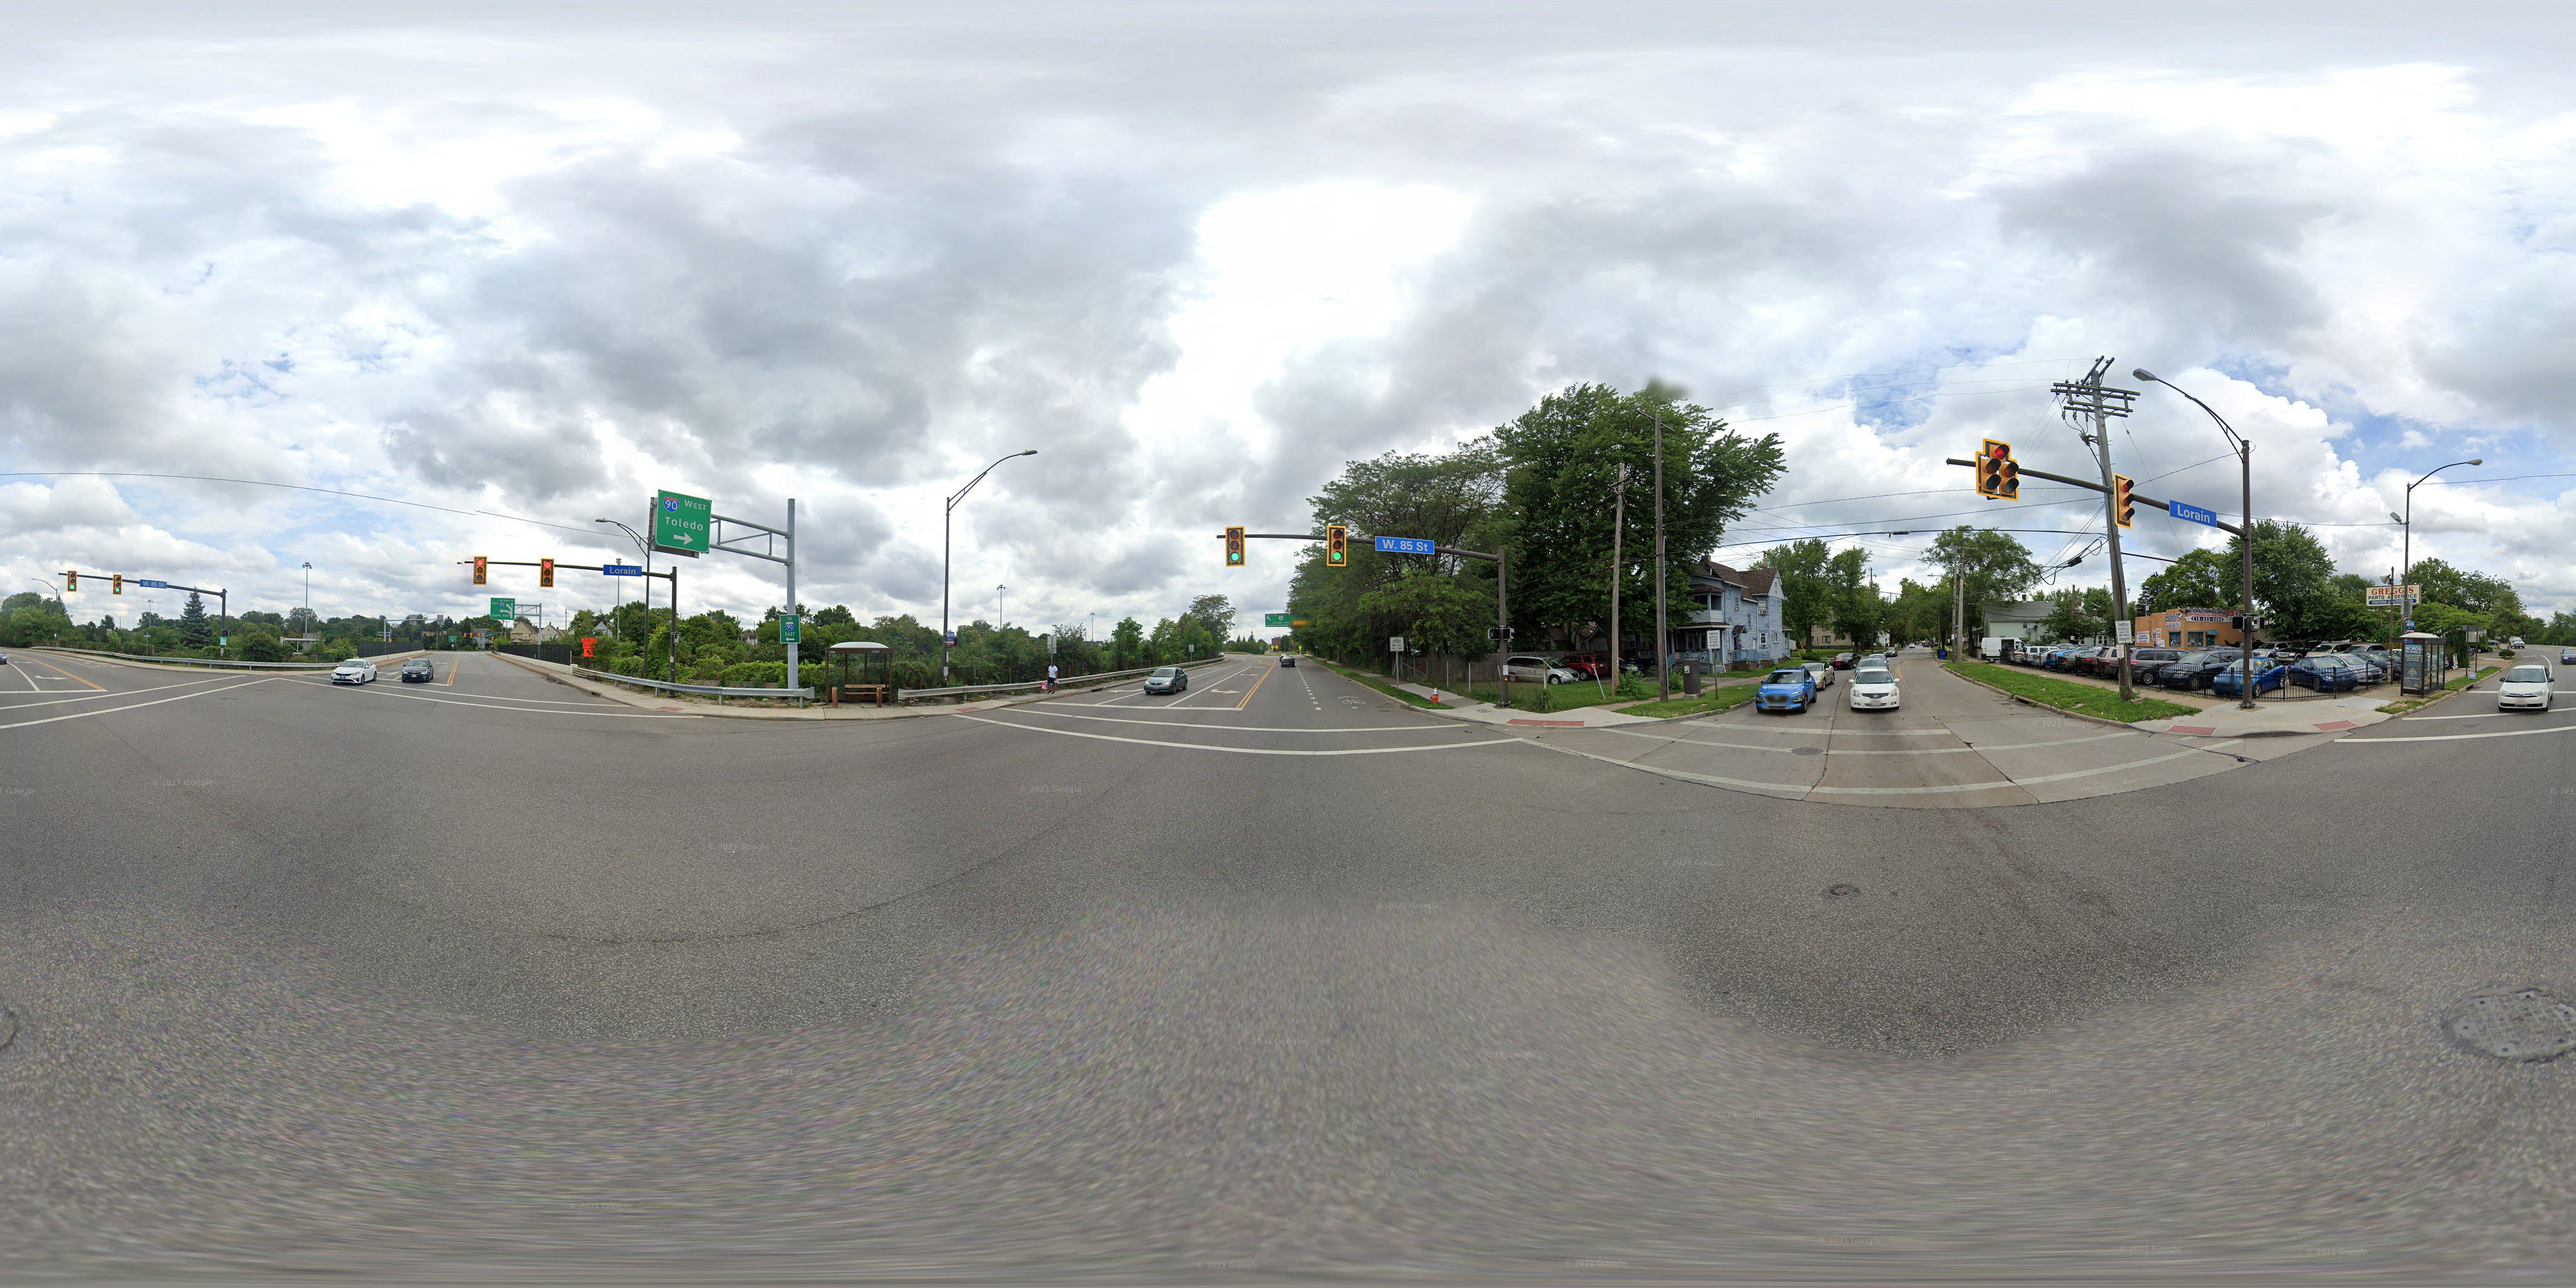Curb Ramp: (1487, 705, 1592, 743), (2298, 713, 2389, 738), (2160, 713, 2228, 746), (636, 697, 700, 723), (940, 697, 1002, 720), (256, 669, 291, 682)
